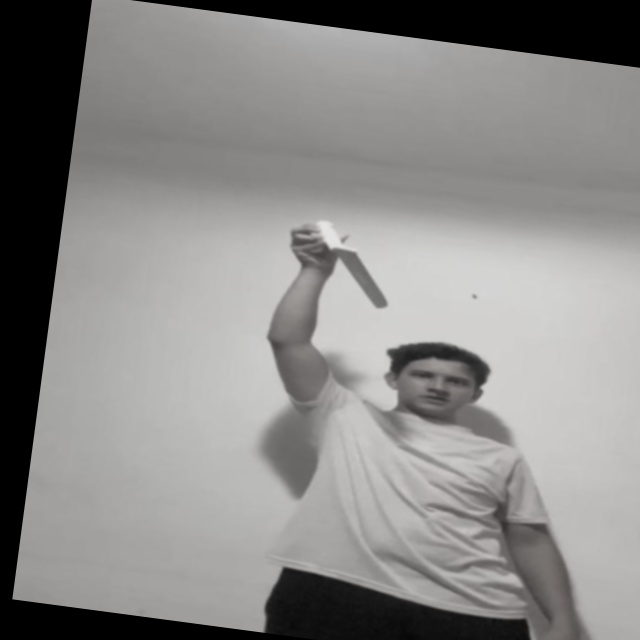Sharp-Object: (334, 248, 394, 308)
